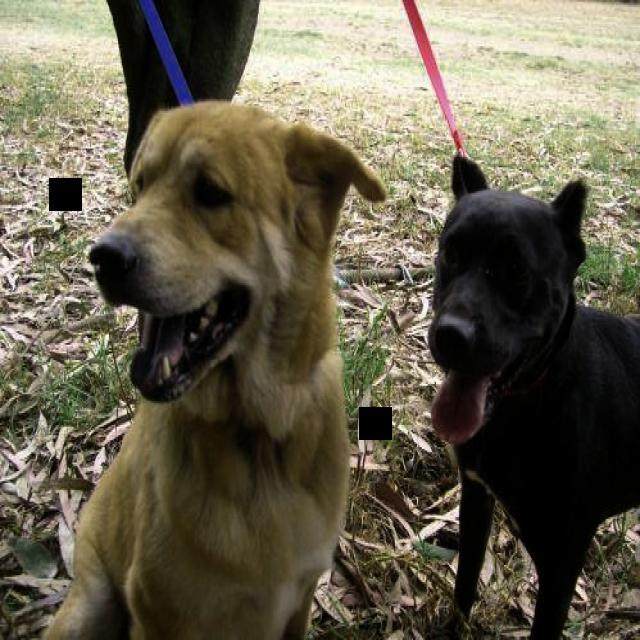adult_dog: (41, 105, 389, 640), (425, 151, 640, 640)
